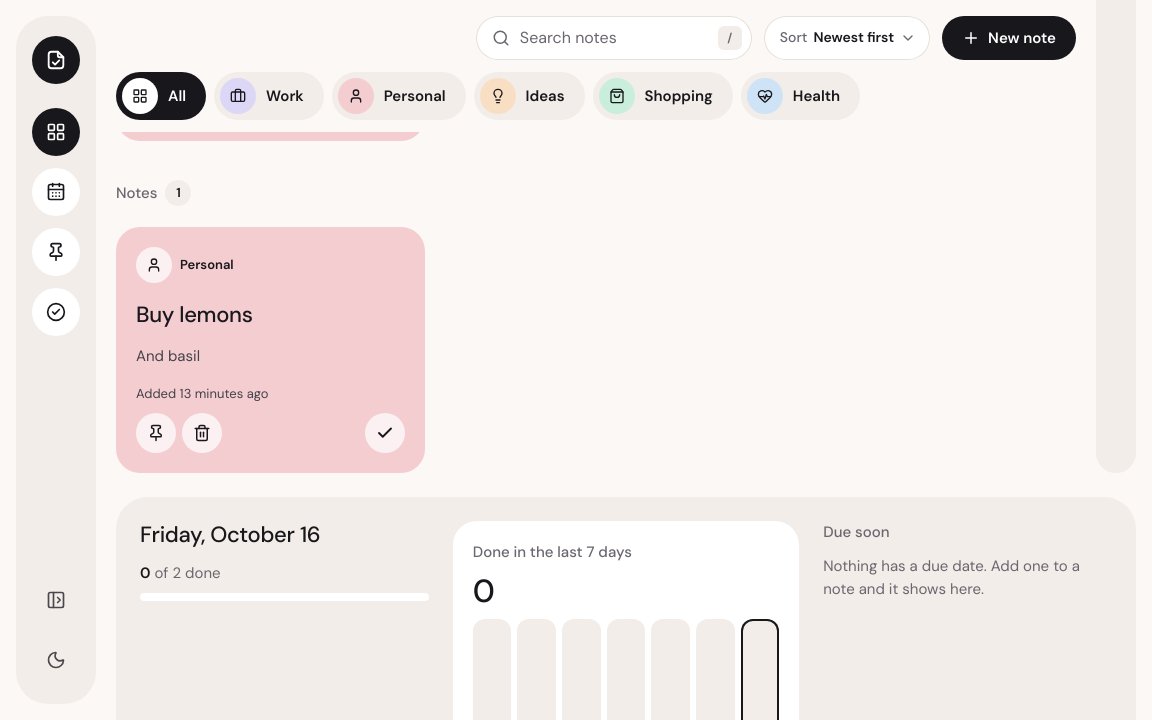
it: Notes dashboard › puts a note back when the delete fails, and Try again deletes it
(page scrolled)
Expected: the element "Buy lemons" is shown, left=116, top=227, right=425, bottom=473
Click the button named "Delete Buy lemons" at (202, 433), box left=182, top=413, right=222, bottom=453
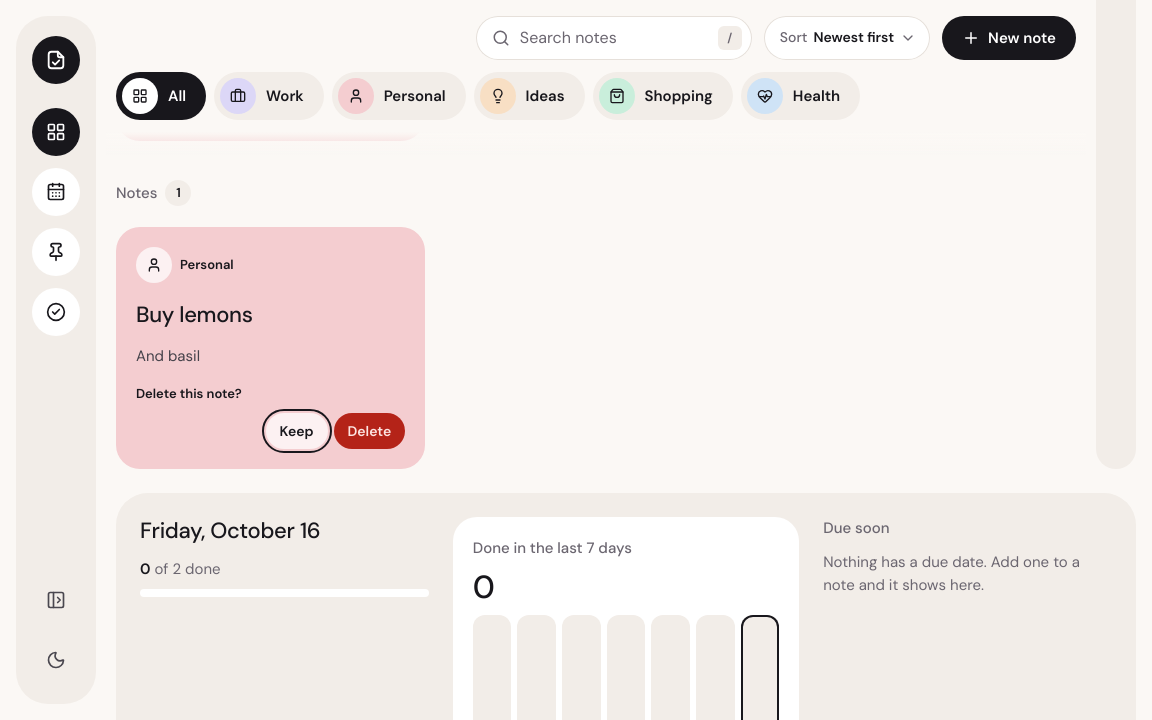
Click the button "Delete" at (369, 431), box left=334, top=413, right=405, bottom=449
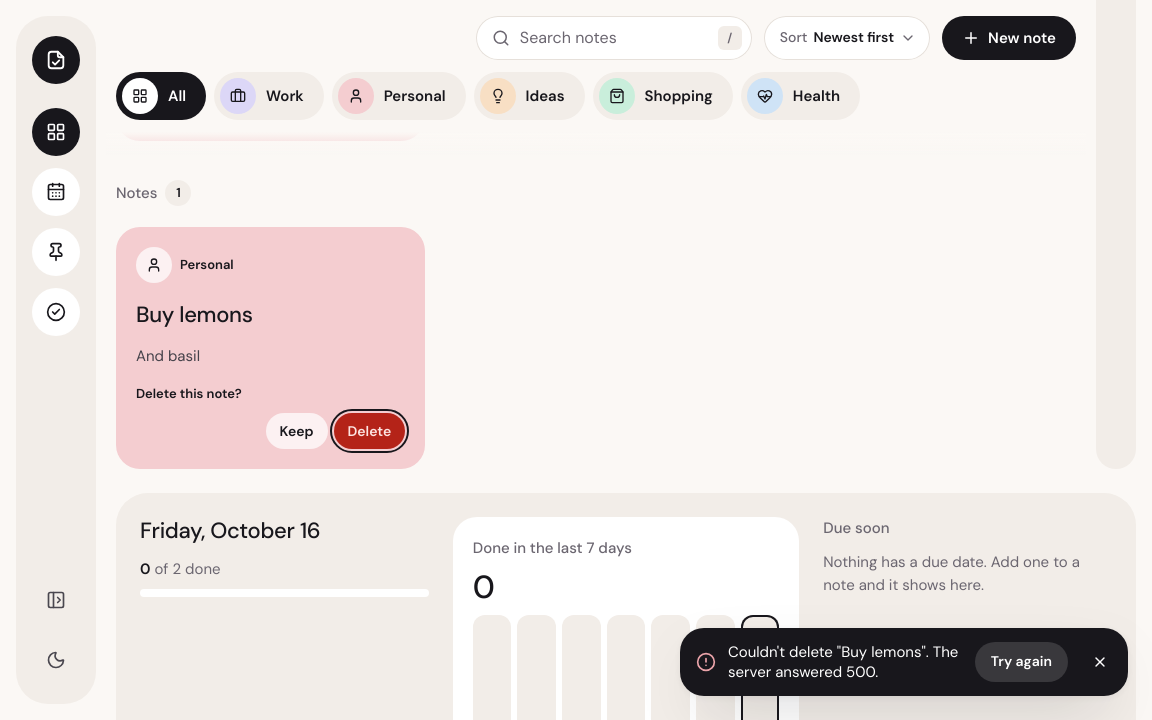
Expected: the element "Buy lemons" is shown, left=116, top=227, right=425, bottom=469
Now the message shows "Couldn't delete \"Buy lemons\". The server answered 500.", box left=728, top=642, right=958, bottom=682
Click the button "Try again" at (1021, 662), box left=975, top=642, right=1068, bottom=682
(page scrolled)
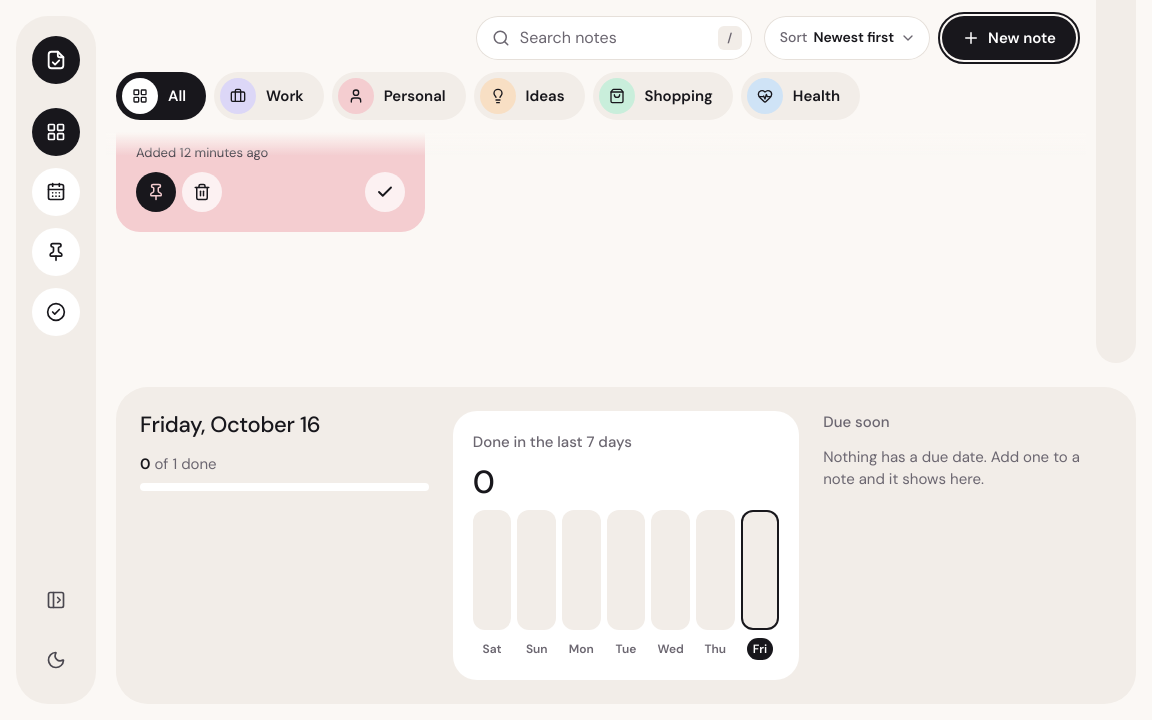
Now the button "Buy lemons" is gone
